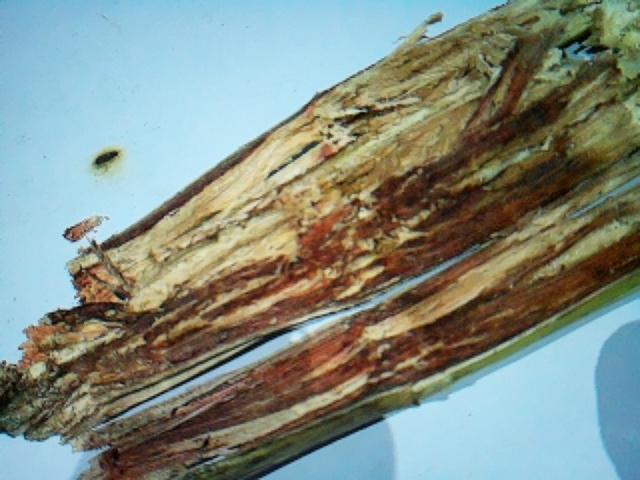Red-Rot: (75, 77, 624, 454)
